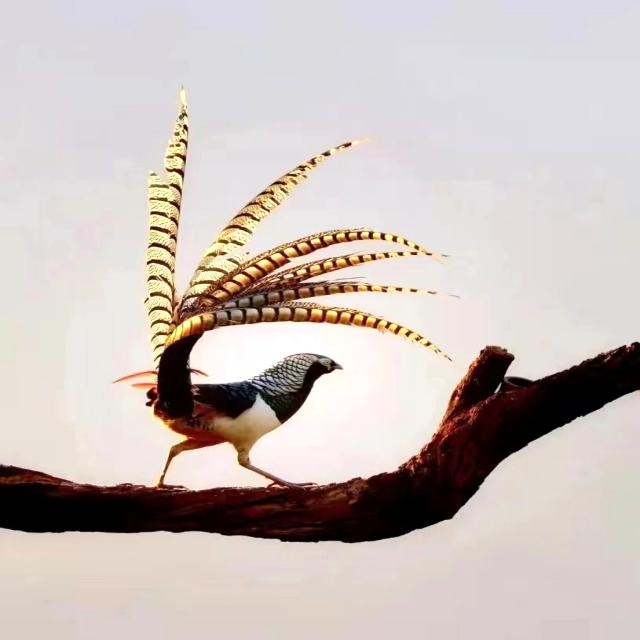Chrysolophus amherstiae: (115, 91, 451, 388)
